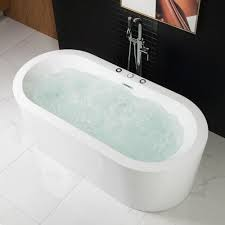bathub: (8, 46, 211, 214)
